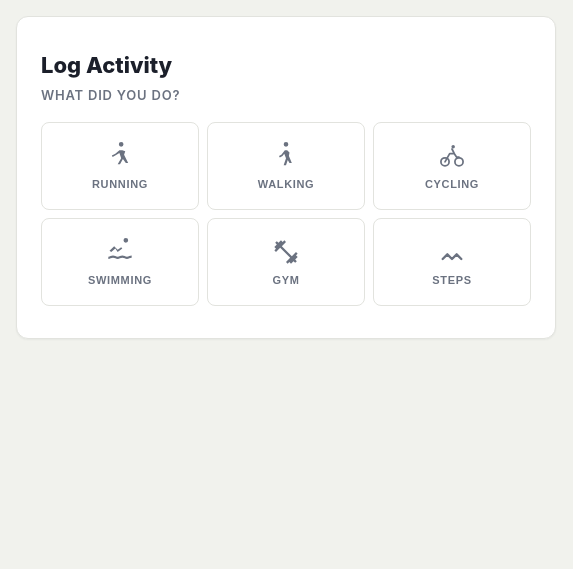
Scenario: LogActivity › shows step count for daily steps
The image size is (573, 569).
What coordinates should you click on to do the following:
click the radio button with aria-label "daily steps"
I would click on:
 (452, 262)
Its box is [373, 218, 531, 306].
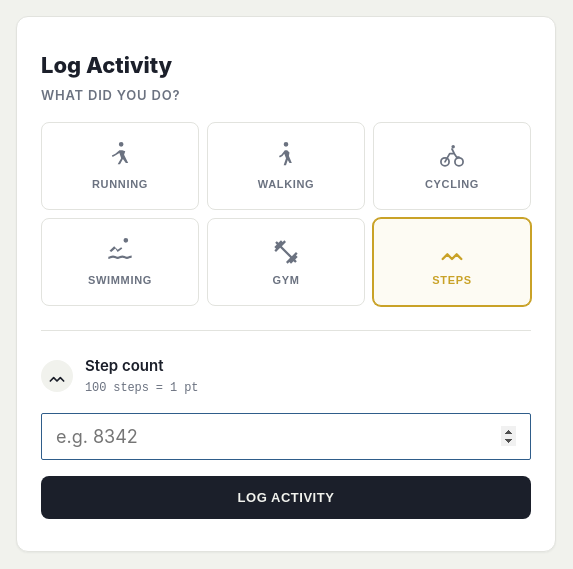
Check: the number field with placeholder "e.g. 8342" is shown, box [41, 413, 531, 460]
